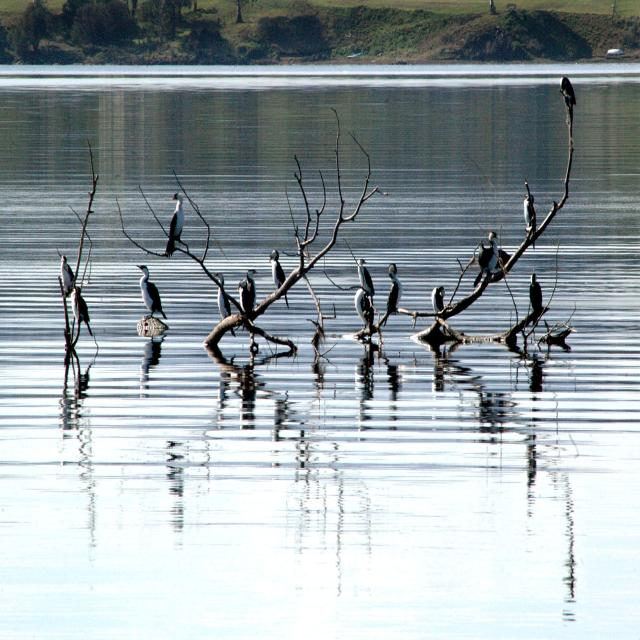bird: (157, 192, 193, 255), (132, 266, 170, 318), (207, 272, 236, 335), (69, 284, 94, 336), (267, 249, 289, 301), (238, 267, 258, 322), (474, 230, 494, 283), (384, 256, 401, 318), (353, 284, 373, 333), (527, 271, 543, 322), (56, 252, 74, 294), (522, 192, 536, 245), (356, 258, 375, 294), (430, 284, 446, 312)
